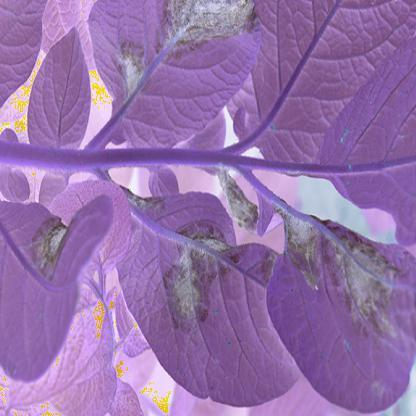Potato leaf: (105, 172, 316, 415), (249, 168, 415, 403), (87, 1, 268, 164), (0, 178, 118, 384)
